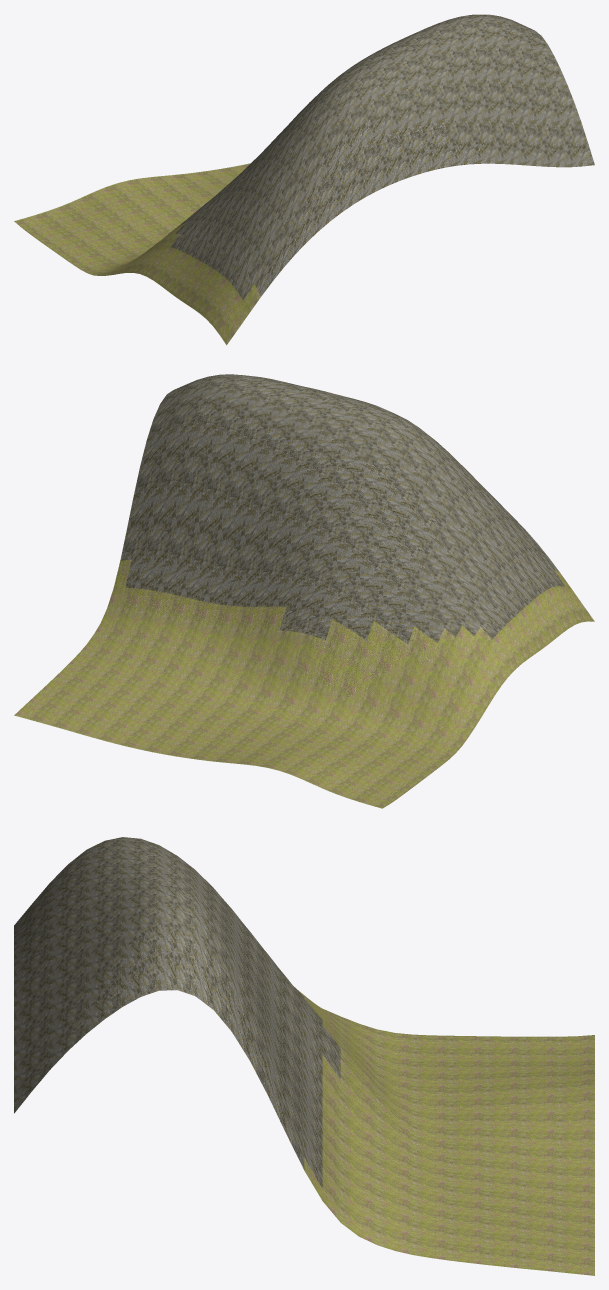
Rendered from chunk_-1_3.glb.
3 renders of one model, top to bottom at view 1: azimuth 30°, elevation 25°; view 2: azimuth 150°, elevation 25°; view 3: azimuth 270°, elevation 25°, orthographic. The views are drawn at different scales.
Parts seen in each view (by area): view 1: chunk_-1_3-col; view 2: chunk_-1_3-col; view 3: chunk_-1_3-col.
Boxes of the visible parts, <box> form: chunk_-1_3-col: <box>14,14,594,345</box>; chunk_-1_3-col: <box>14,374,594,808</box>; chunk_-1_3-col: <box>14,837,594,1275</box>.
Bounding box in the file's own units: 64 × 40.84 × 64.
Materials: 2 (2 with a texture image).
